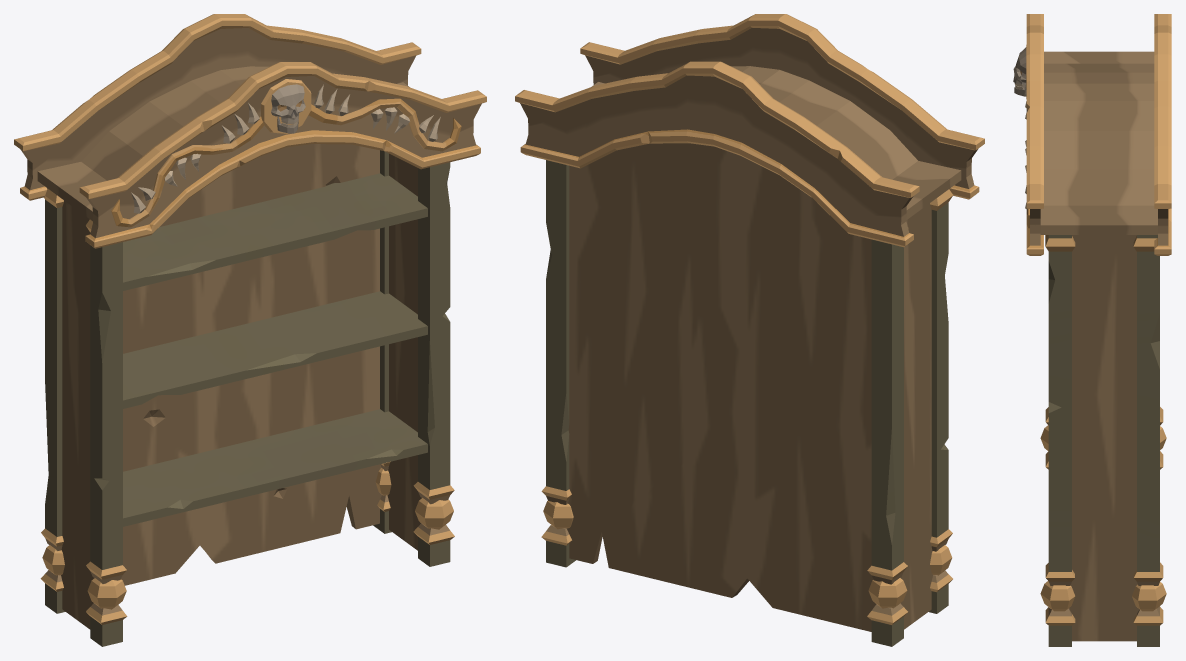
Rendered from SM_Prop_Shelf_04.fbx.
3 views of the same model, side by side, from view 1: azimuth 30°, elevation 25°; view 2: azimuth 150°, elevation 25°; view 3: azimuth 270°, elevation 25° (orthographic). The views are drawn at different scales.
Parts seen in each view (by area): view 1: SM_Prop_Shelf_04; view 2: SM_Prop_Shelf_04; view 3: SM_Prop_Shelf_04.
Part boxes in pixels (box(x1,y1,x2,y2)): SM_Prop_Shelf_04: box(14, 14, 486, 646); SM_Prop_Shelf_04: box(515, 14, 984, 646); SM_Prop_Shelf_04: box(1013, 14, 1171, 646).
Size of the model in its own units: 222 by 291 by 78.62.
